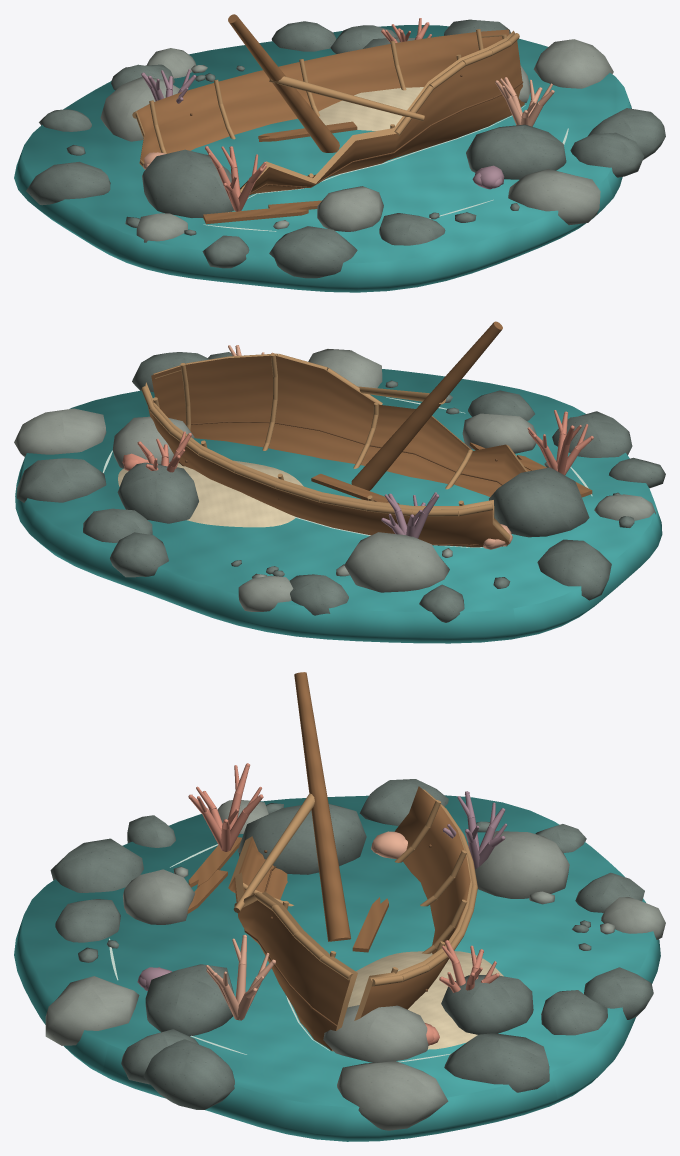
Rendered from shipwreck-reef-v5.fbx.
3 renders of one model, top to bottom at view 1: azimuth 30°, elevation 25°; view 2: azimuth 150°, elevation 25°; view 3: azimuth 270°, elevation 25°, orthographic. The views are drawn at different scales.
Parts seen in each view (by area): view 1: Shipwreck | collectible export; view 2: Shipwreck | collectible export; view 3: Shipwreck | collectible export.
Part boxes in pixels (bbox=[...]): Shipwreck | collectible export: bbox=[14, 14, 665, 292]; Shipwreck | collectible export: bbox=[14, 321, 665, 643]; Shipwreck | collectible export: bbox=[14, 672, 665, 1141].
Size of the model in its own units: 172 by 60.38 by 145.
11 materials, 5 textured.
